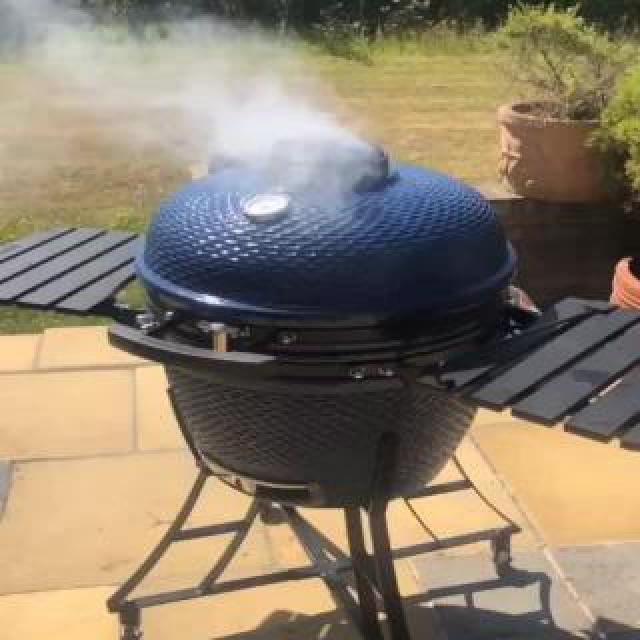Smoke: (50, 8, 382, 191)
